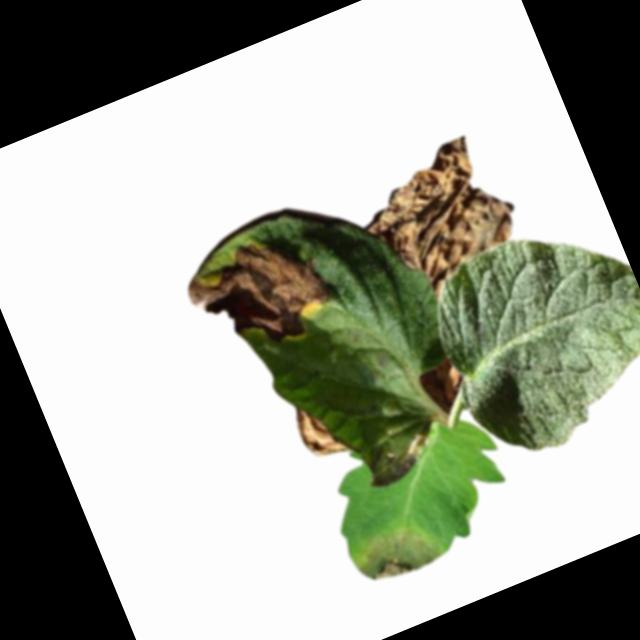Late_blight: (344, 127, 535, 314), (175, 218, 343, 373), (349, 513, 446, 595), (358, 424, 439, 491), (289, 395, 348, 465), (414, 352, 473, 415)
